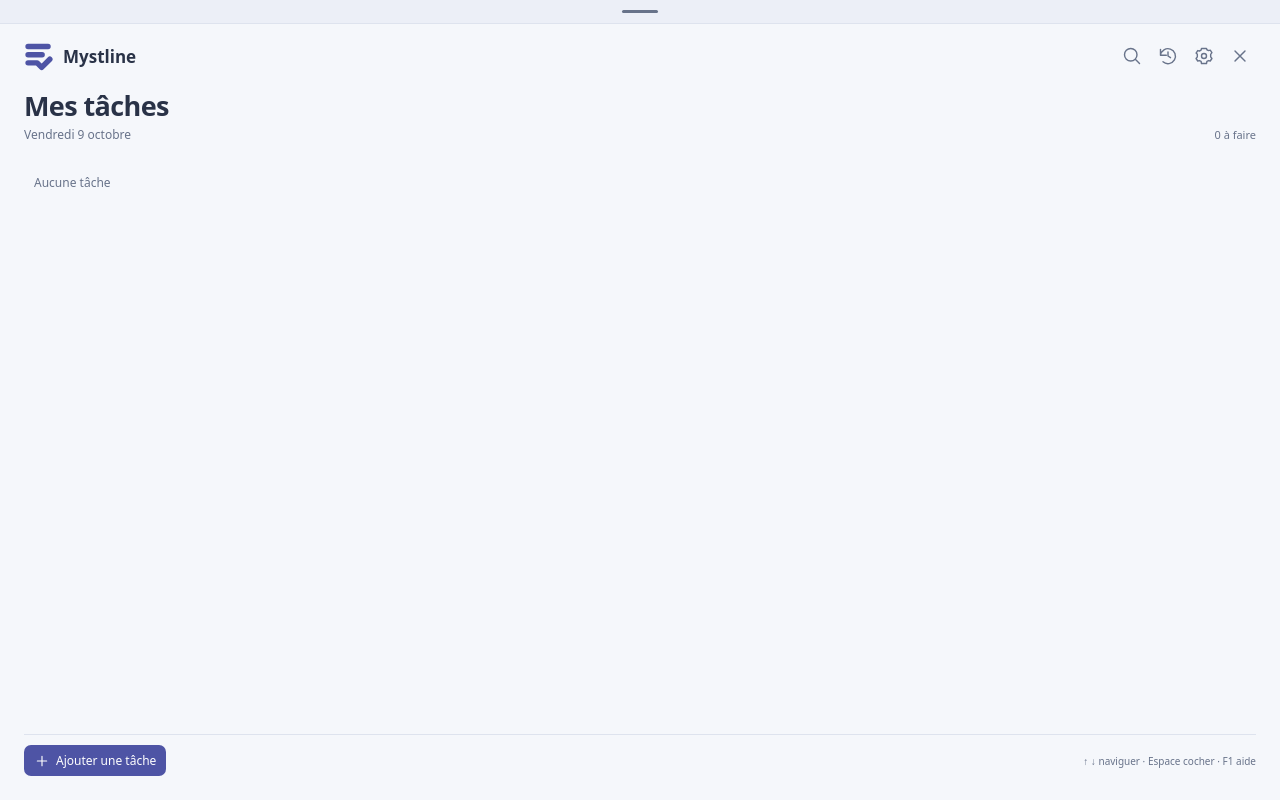
regroupements fonctionnels validés › affiche un seul état vide et aucun résultat pour une recherche sans correspondance
The image size is (1280, 800).
Press f in the list, box left=34, top=174, right=111, bottom=191
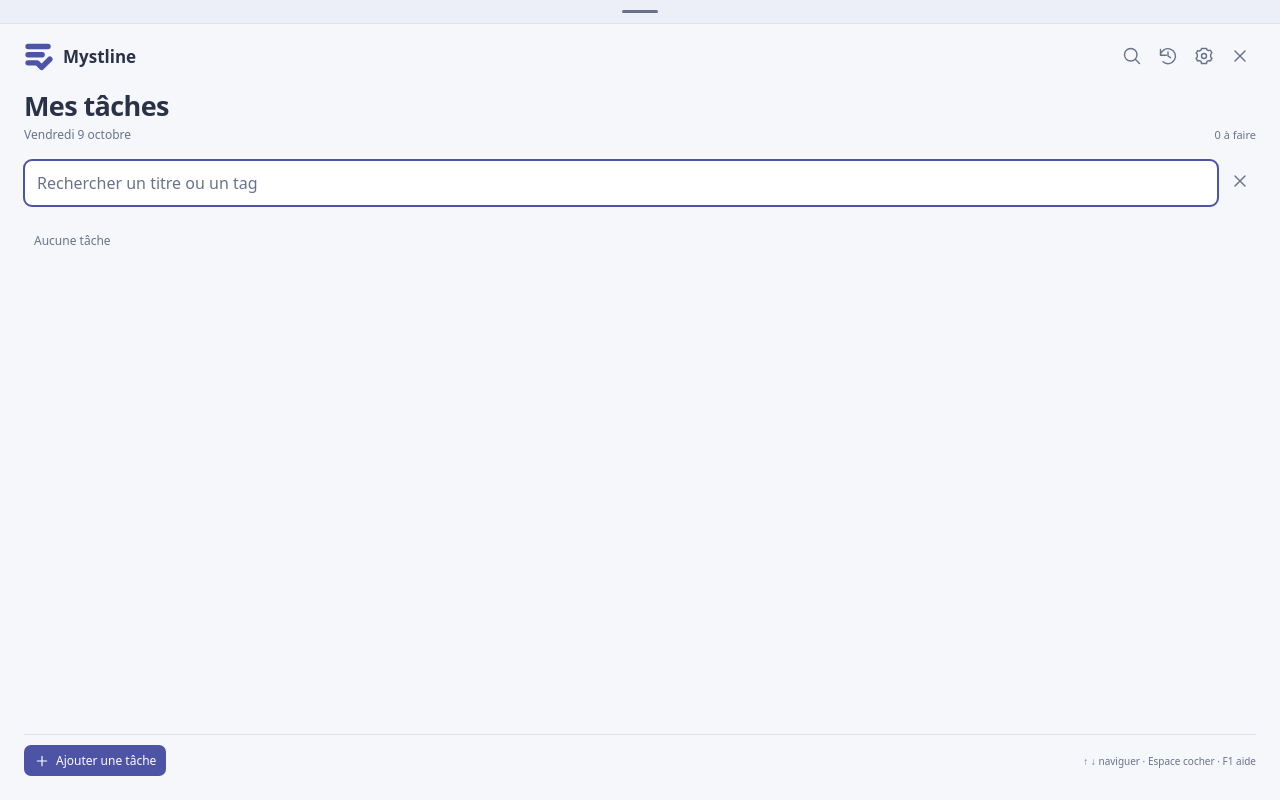
Type "introuvable" into the field with id "search" at coordinates (621, 183), box left=24, top=160, right=1218, bottom=206
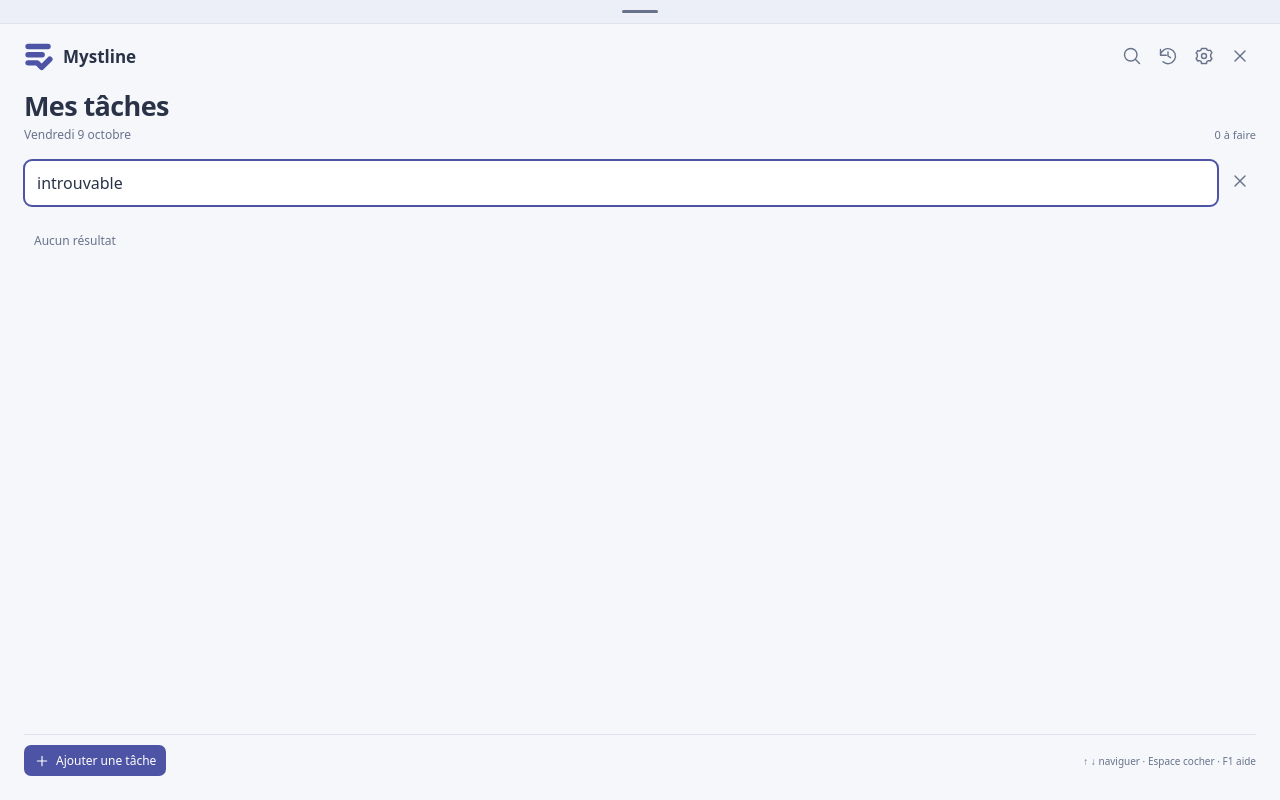
Expected: the text with class "empty" reads "Aucun résultat", left=34, top=232, right=116, bottom=249
